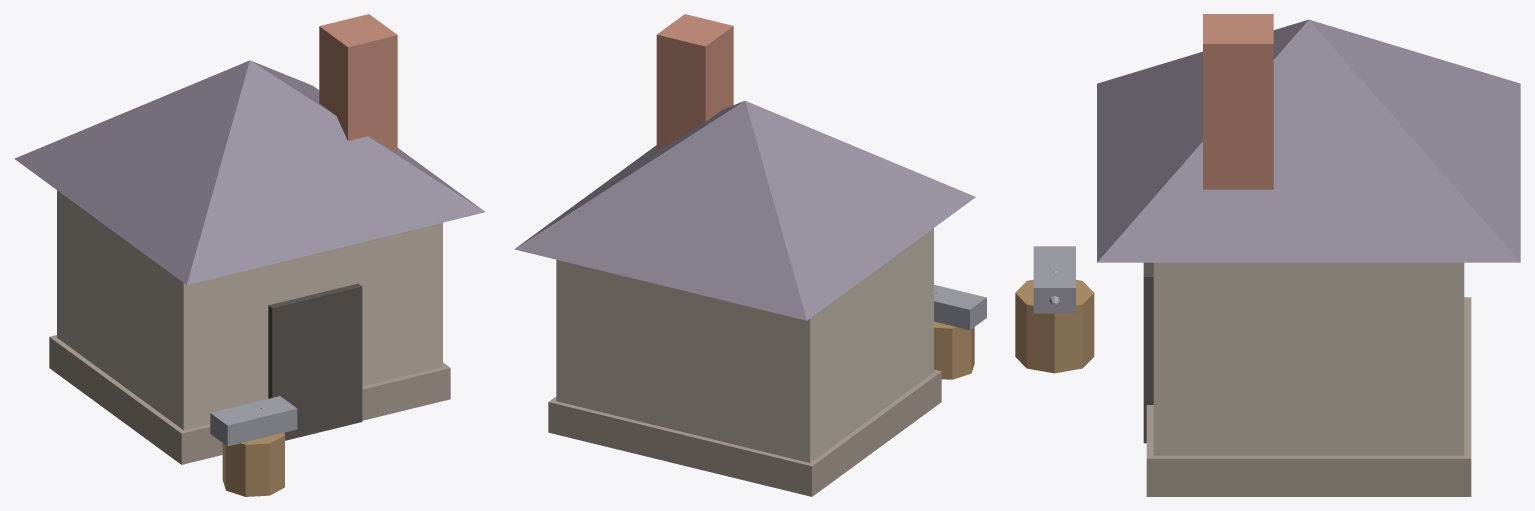
Rendered from forge.glb.
The picture shows the model from 3 angles, left to right: view 1: azimuth 30°, elevation 25°; view 2: azimuth 150°, elevation 25°; view 3: azimuth 270°, elevation 25°; orthographic projection. The views are drawn at different scales.
Parts seen in each view (by area): view 1: forge; view 2: forge; view 3: forge.
Part boxes in pixels (x1,y1,x2,y2): forge: [14, 14, 485, 496]; forge: [514, 14, 986, 496]; forge: [1015, 14, 1520, 496].
Size of the model in its own units: 3 by 3.4 by 3.58.
